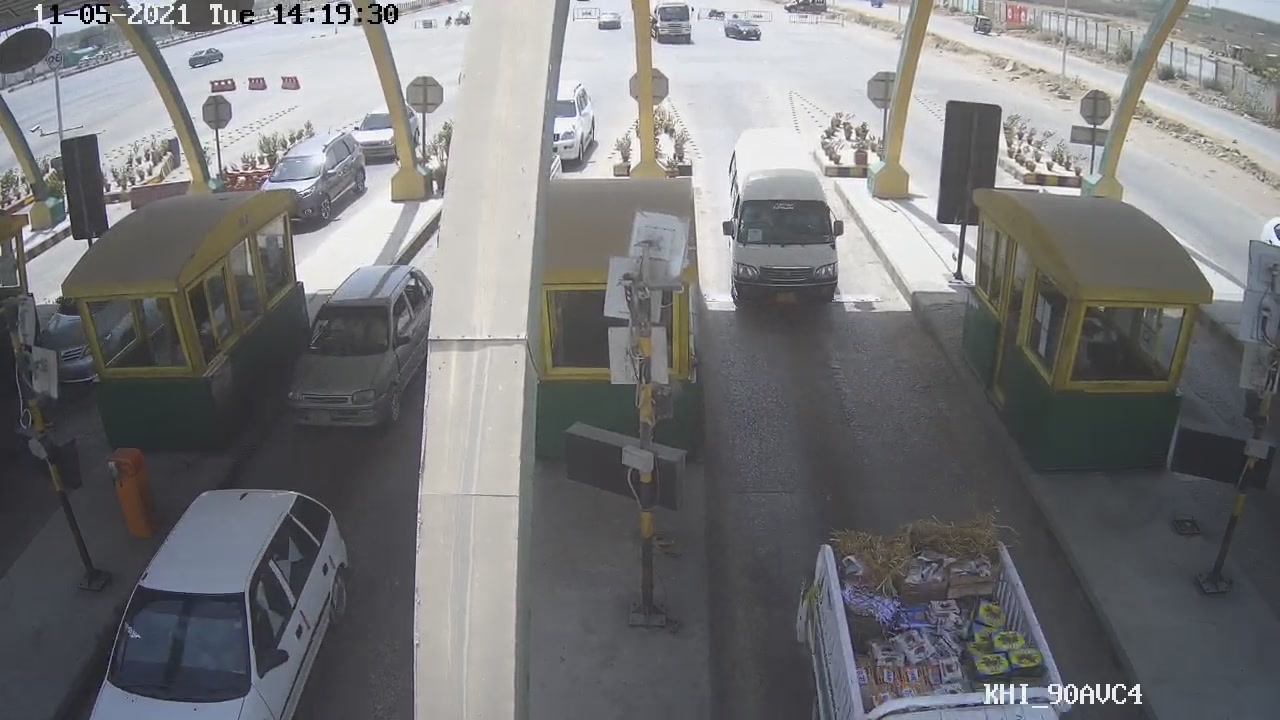F2: (722, 129, 844, 330)
